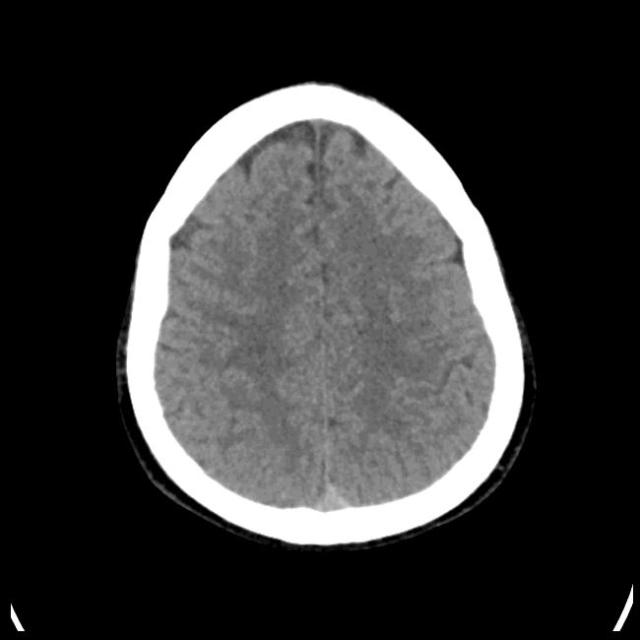lesion: (115, 81, 535, 550)
